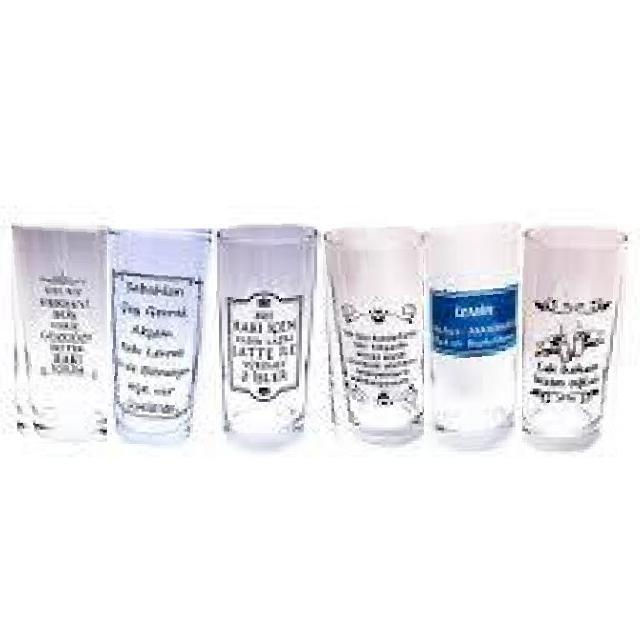Glass: (522, 224, 630, 454), (318, 225, 424, 453), (214, 223, 318, 451), (424, 220, 522, 452), (108, 226, 212, 444), (7, 222, 107, 442)
